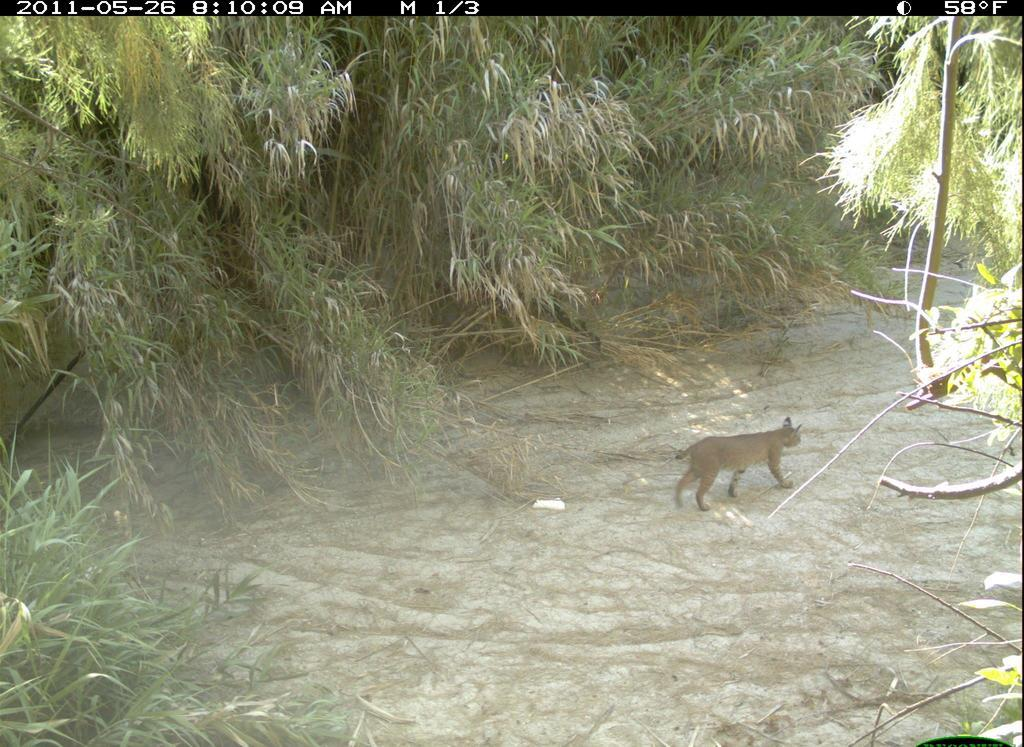bobcat: (671, 413, 813, 514)
